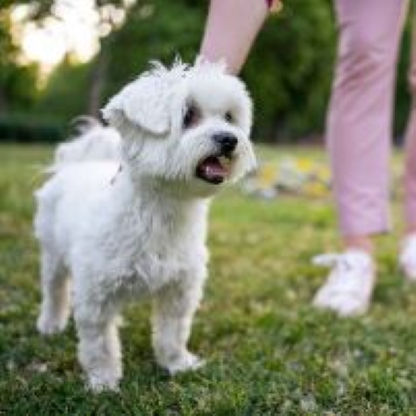maltese: (26, 55, 259, 391)
